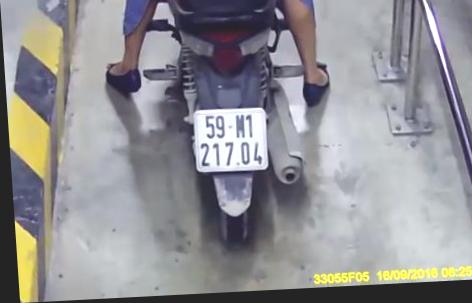License_Plate: (191, 105, 272, 181)
